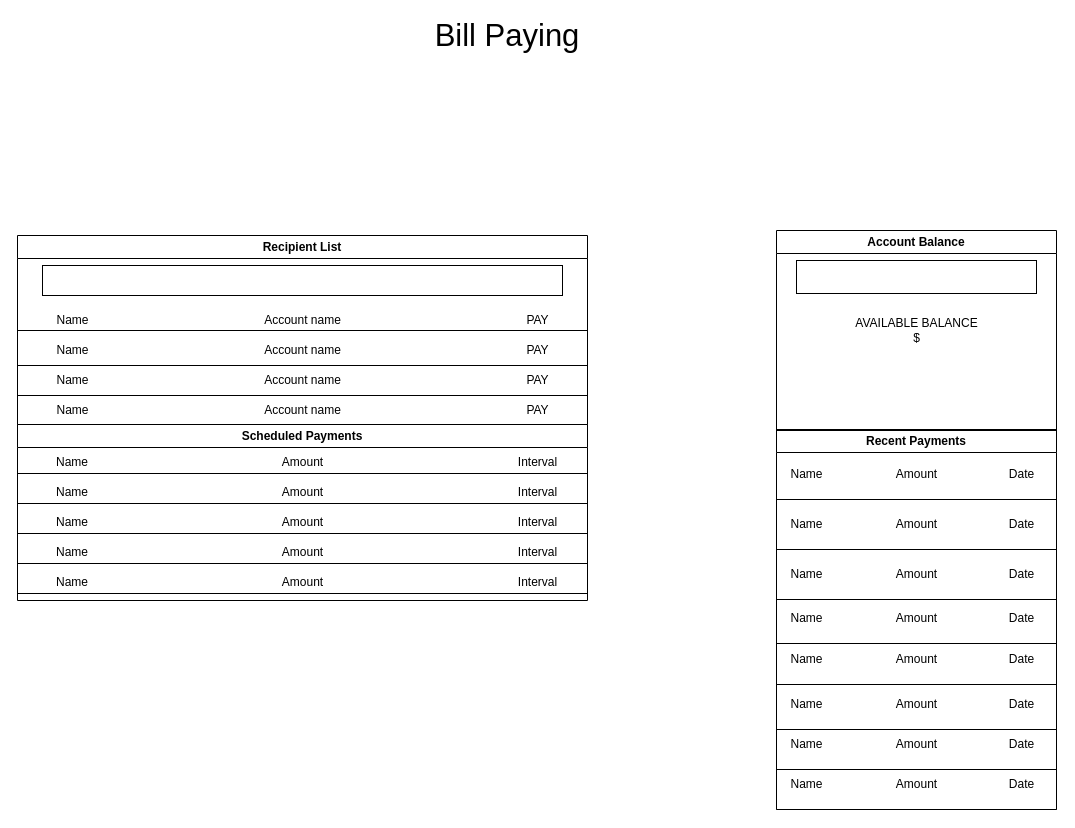
Image size: 1075x828. Some labels were removed from this diagram. Here are the shapes that lost their labels. From the top down, the centre of each, then its label:
(302,280): Search
(916,277): ACCOUNT A
